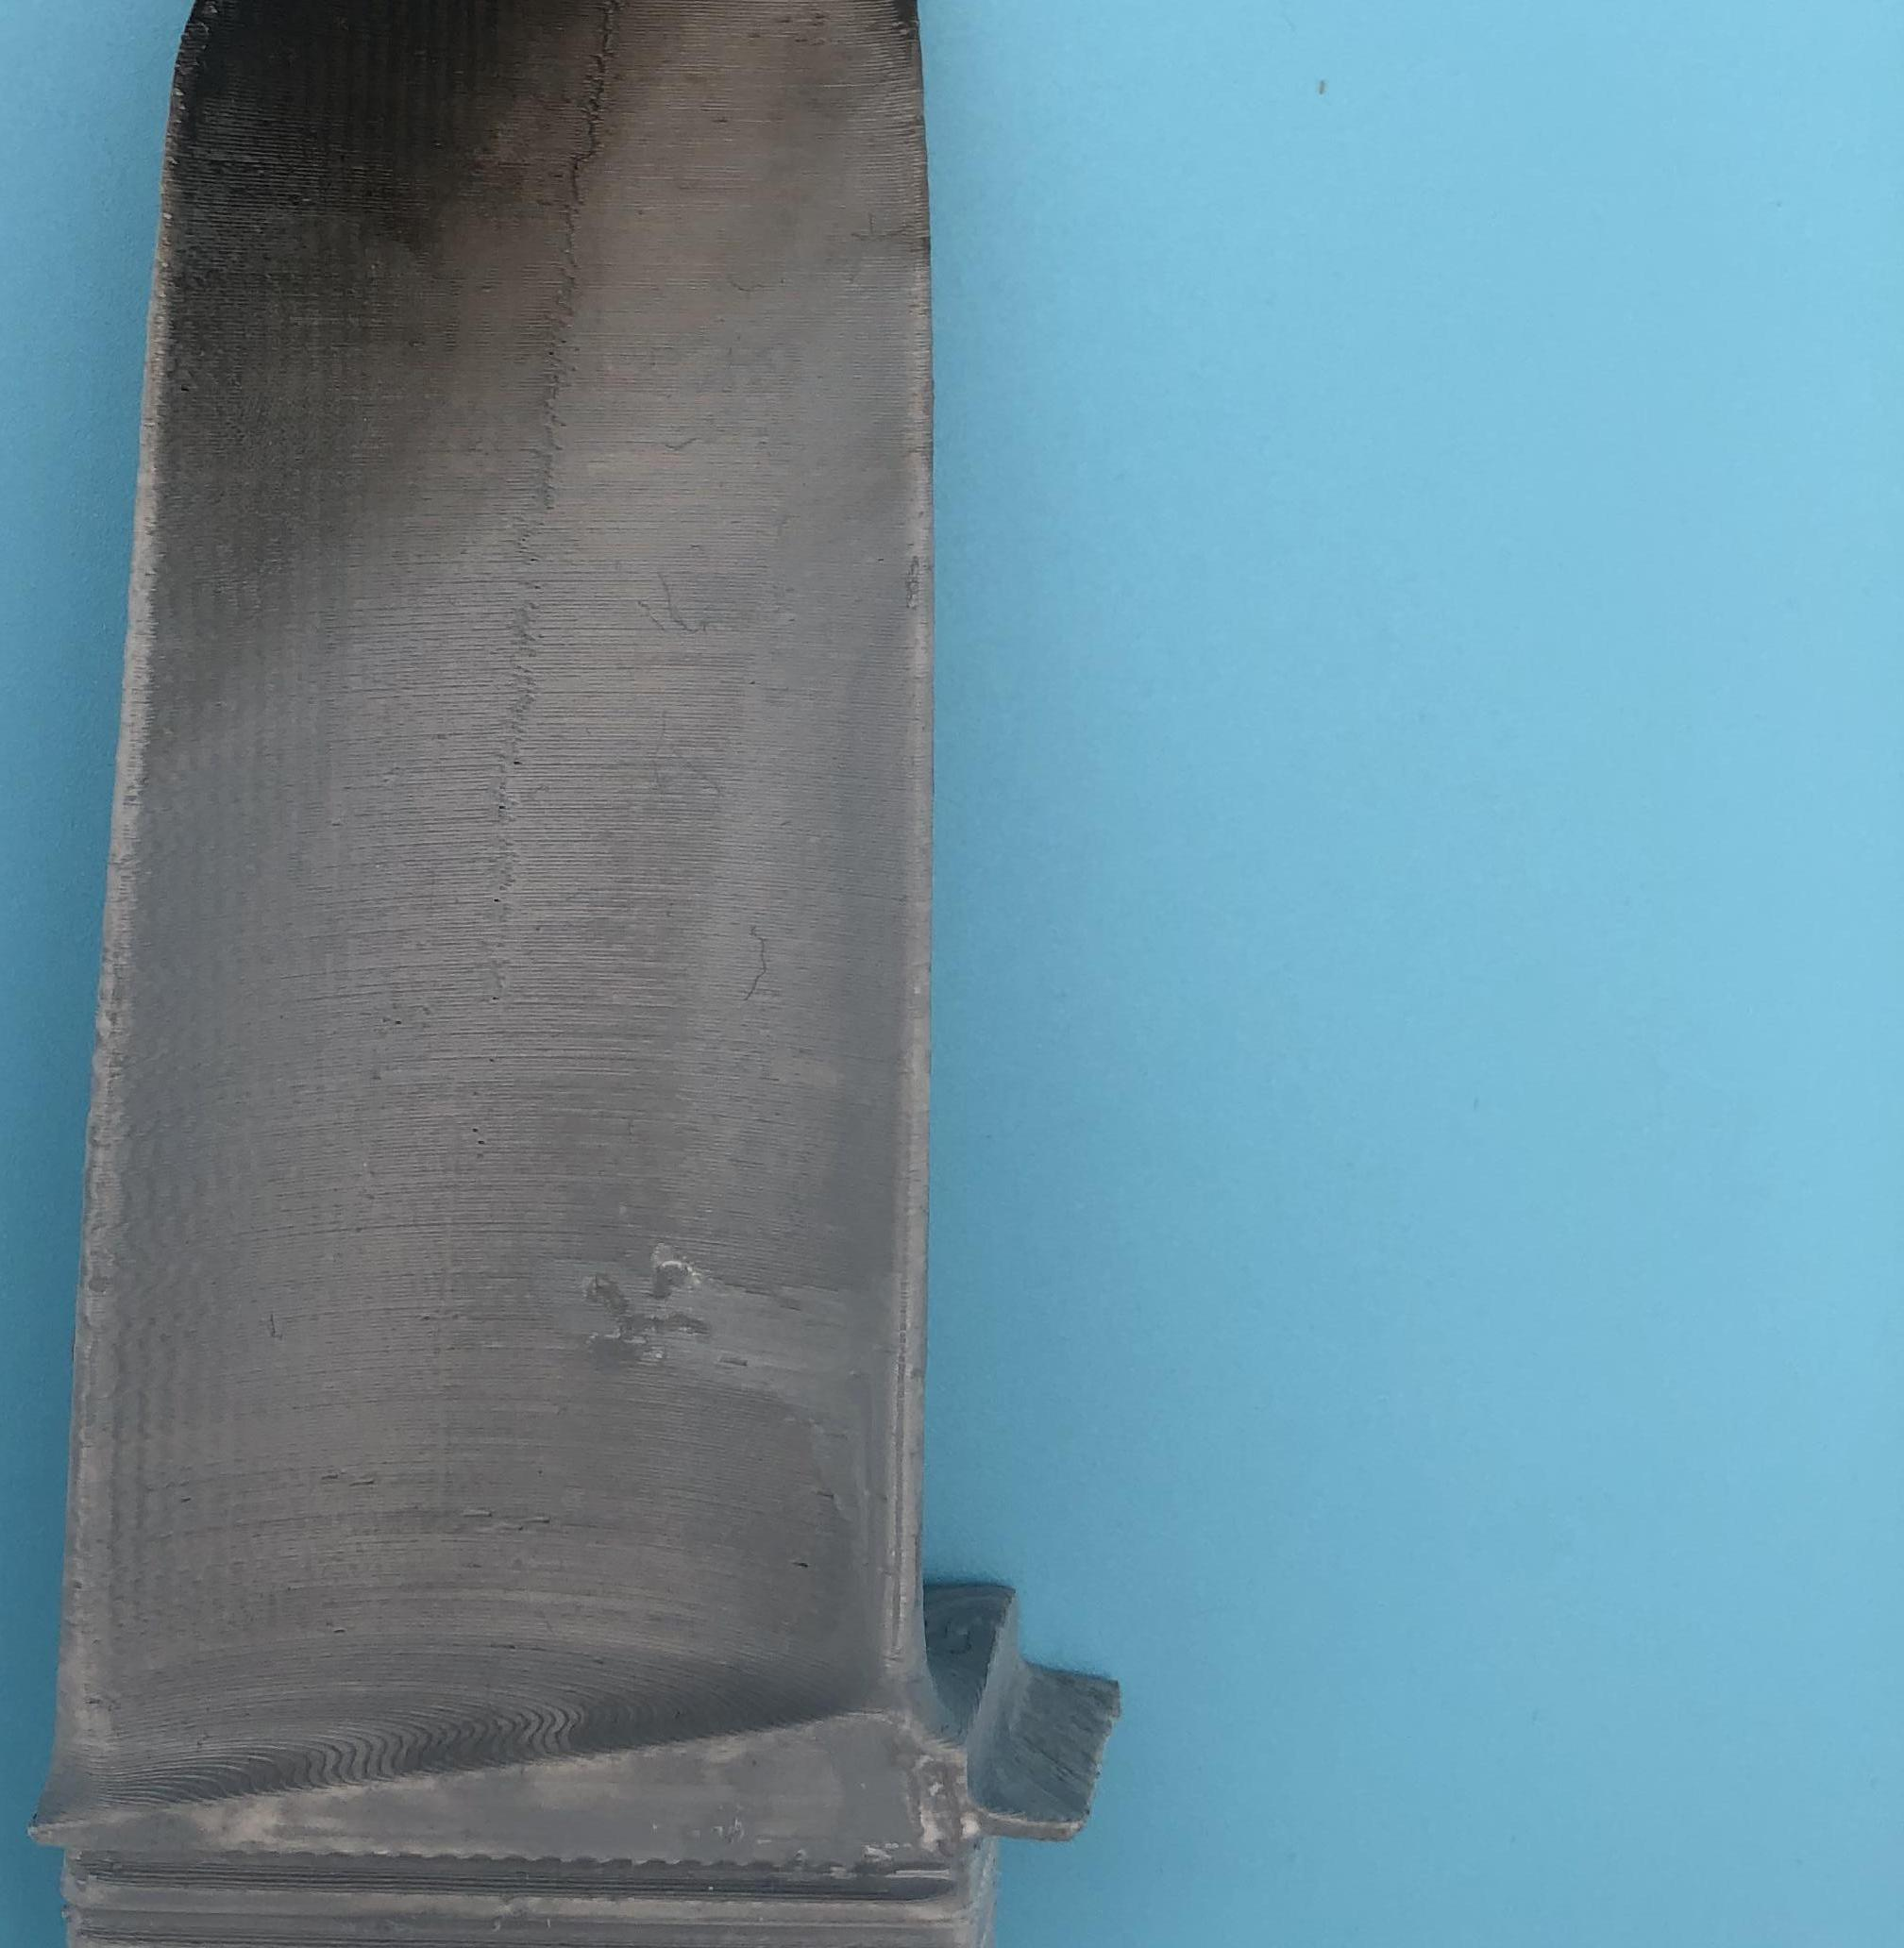ablation: (173, 3, 806, 453)
